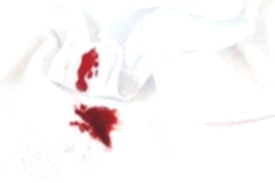blood: (73, 103, 119, 150), (78, 49, 97, 91)
